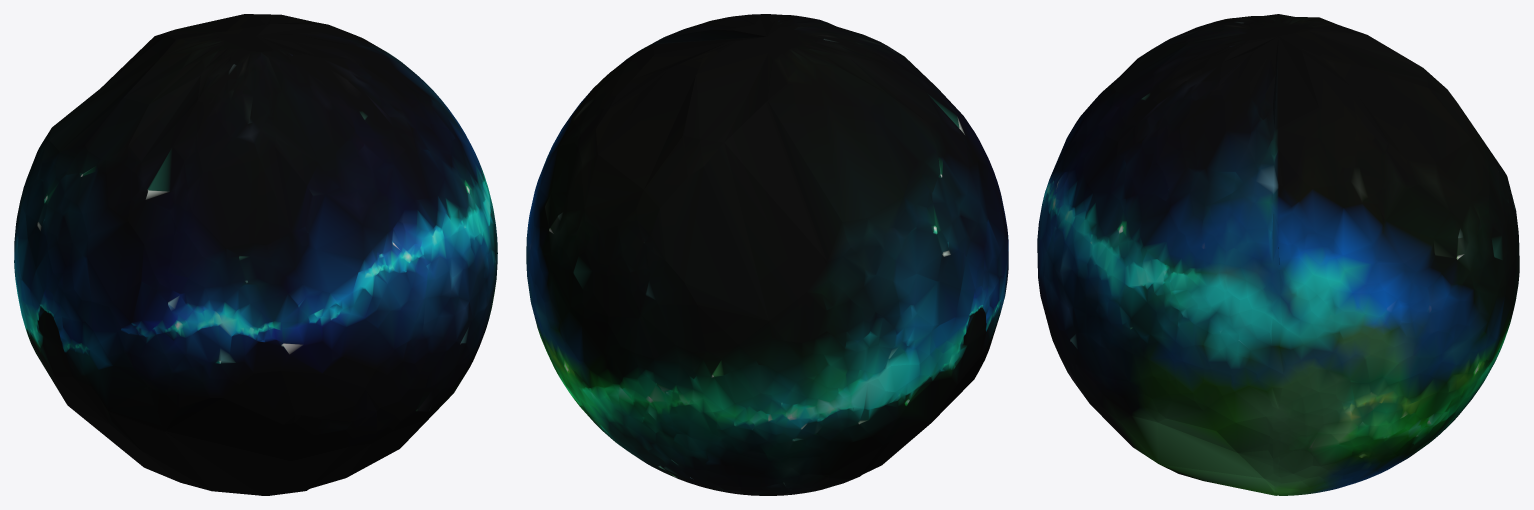
The model's file is horse_neb_vertex_col.fbx.
3 renders of one model, left to right at view 1: azimuth 30°, elevation 25°; view 2: azimuth 150°, elevation 25°; view 3: azimuth 270°, elevation 25°, orthographic.
Visible parts, largest first — view 1: Curve.000; view 2: Curve.000; view 3: Curve.000.
Boxes of the visible parts, bbox=[...] form: Curve.000: bbox=[14, 14, 497, 495]; Curve.000: bbox=[526, 14, 1008, 495]; Curve.000: bbox=[1037, 14, 1519, 495].
Bounding box in the file's own units: 128 × 127 × 128.
